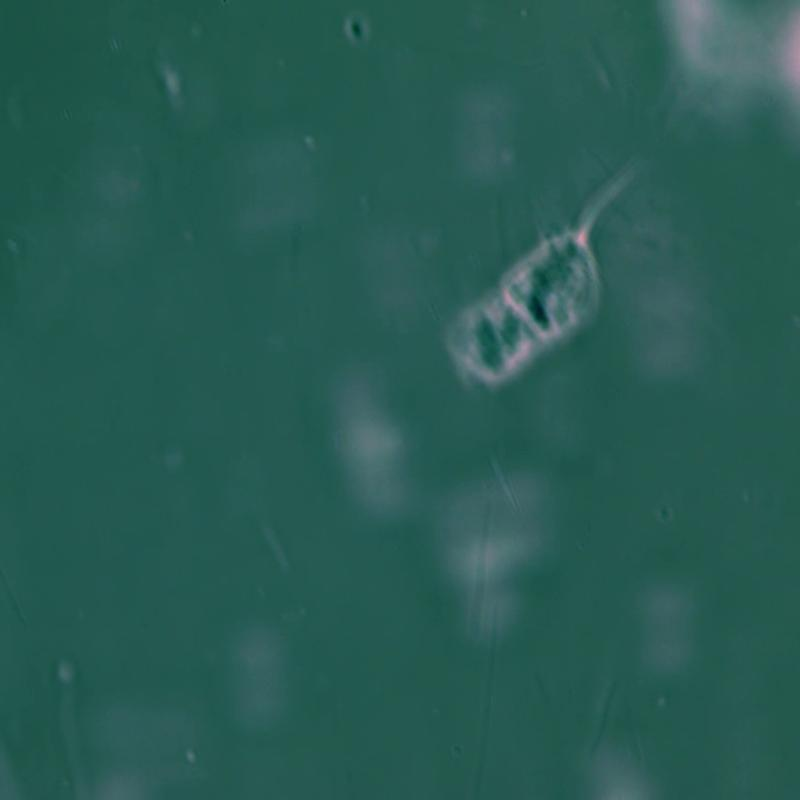depth:60: (432, 159, 680, 399)
